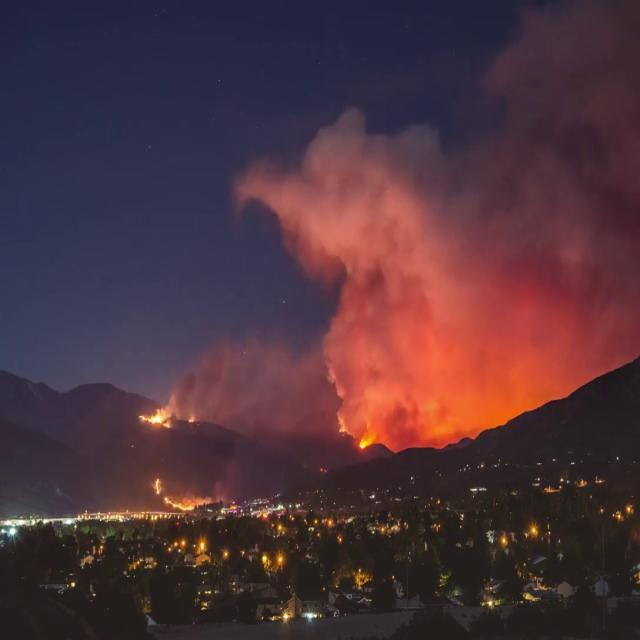Fire: (138, 410, 172, 430), (164, 493, 194, 511), (358, 436, 371, 448), (154, 474, 161, 494), (188, 413, 195, 424), (340, 425, 348, 433)
Smoke: (217, 21, 638, 456), (163, 326, 331, 441), (193, 442, 256, 504)
